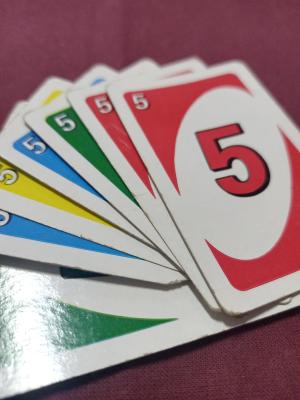num_5: (46, 105, 81, 138), (19, 130, 50, 157), (126, 88, 156, 115), (90, 88, 117, 117), (0, 156, 22, 190)
